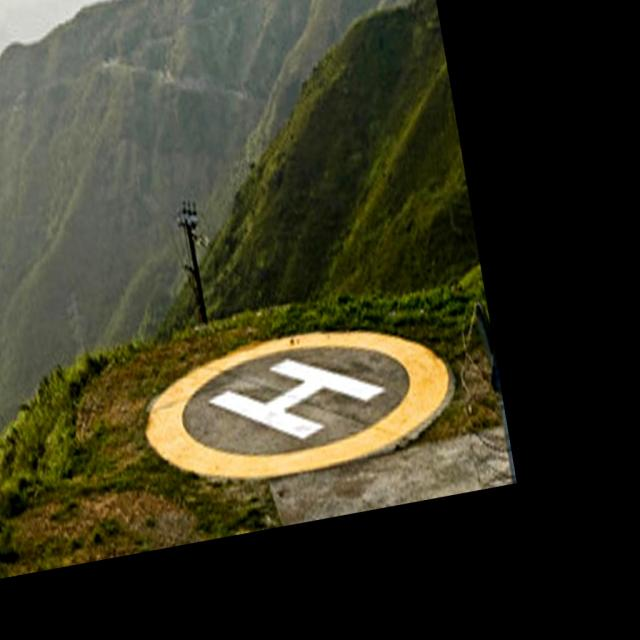helipad: (136, 322, 458, 485)
